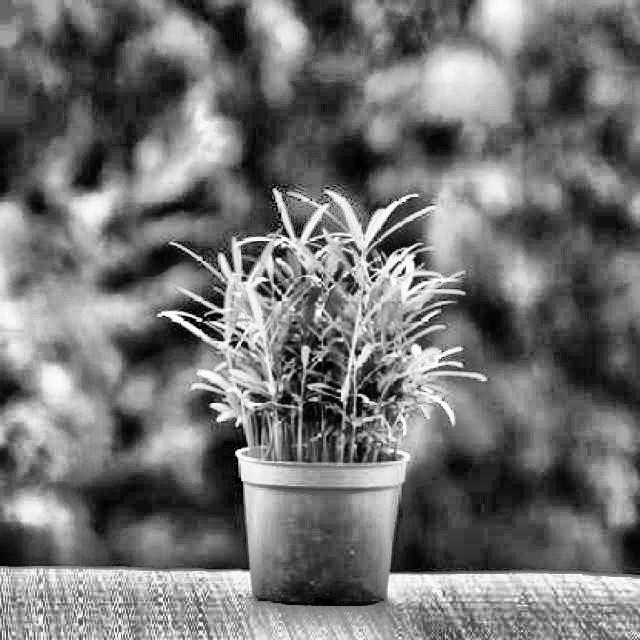plants: (227, 224, 413, 600)
